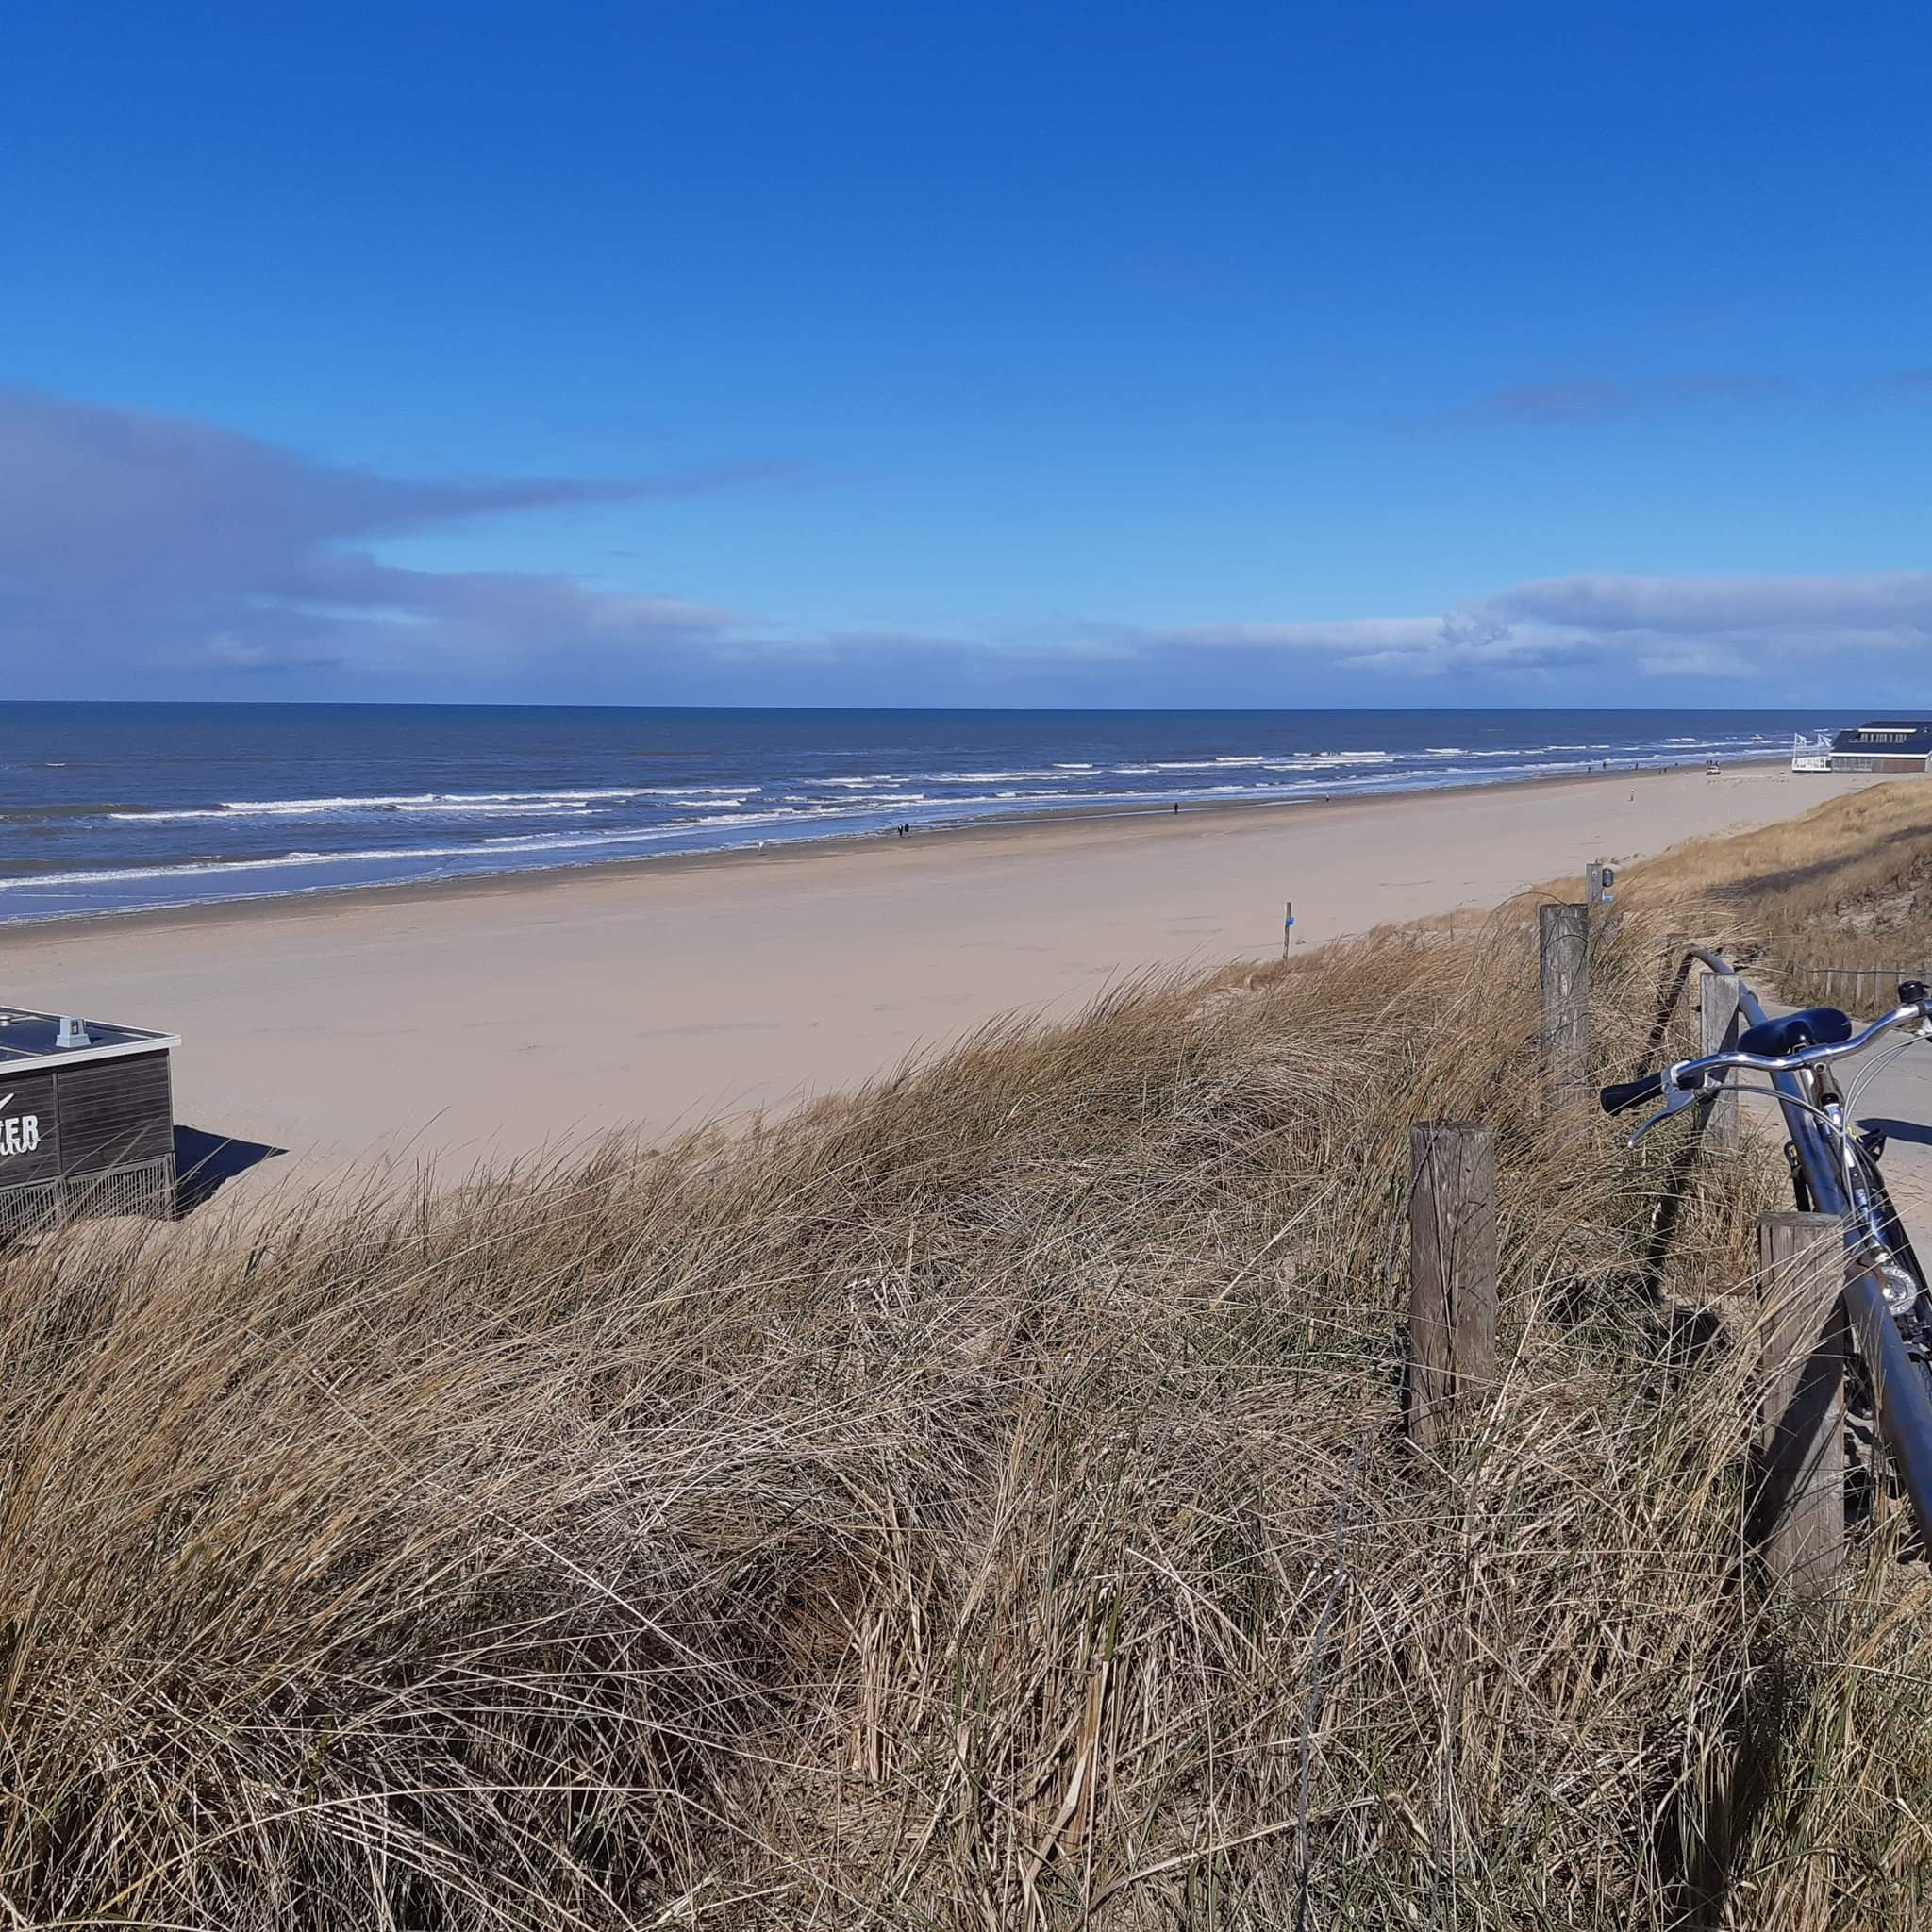pad: (1684, 950, 1932, 1417)
